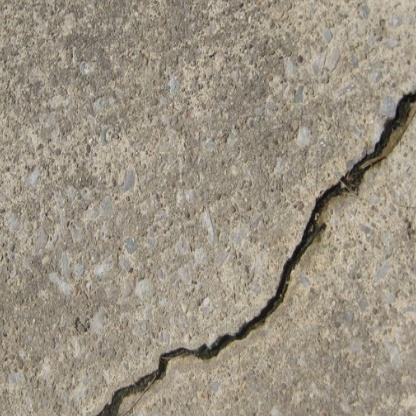Cracks: (64, 76, 416, 416)
